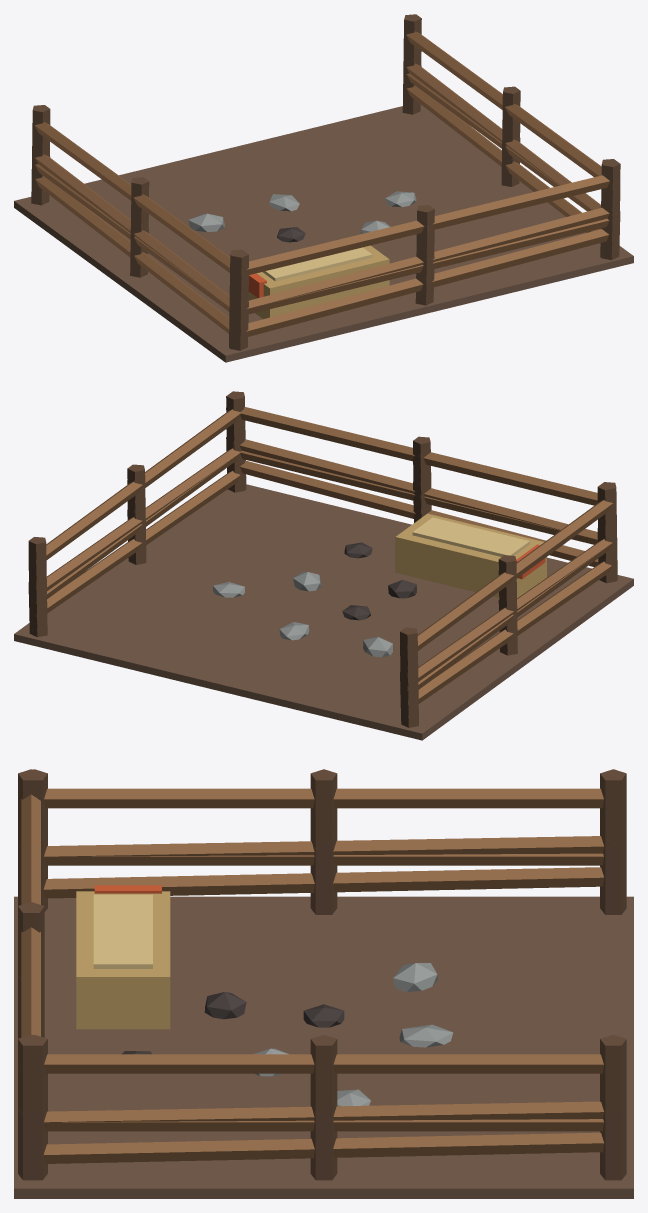
The model's file is animal_pen_stages.glb.
3 renders of one model, top to bottom at view 1: azimuth 30°, elevation 25°; view 2: azimuth 150°, elevation 25°; view 3: azimuth 270°, elevation 25°, orthographic. The views are drawn at different scales.
Parts seen in each view (by area): view 1: Stage_Intact, Stage_Critical, Stage_Damaged, Stage_Rubble; view 2: Stage_Intact, Stage_Critical, Stage_Damaged, Stage_Rubble; view 3: Stage_Intact, Stage_Critical, Stage_Damaged, Stage_Rubble.
Boxes of the visible parts, x1,y1,x2,y2 form: Stage_Intact: (14, 14, 633, 362); Stage_Critical: (35, 66, 620, 350); Stage_Damaged: (35, 45, 620, 343); Stage_Rubble: (188, 191, 416, 242); Stage_Intact: (14, 391, 633, 740); Stage_Critical: (28, 437, 611, 727); Stage_Damaged: (28, 407, 611, 715); Stage_Rubble: (213, 542, 416, 657); Stage_Intact: (14, 769, 633, 1198); Stage_Critical: (18, 828, 626, 1180); Stage_Damaged: (18, 785, 626, 1122); Stage_Rubble: (122, 963, 453, 1106).
Size of what is drawn, in the model's own units: 4.2 by 1.03 by 3.77.
